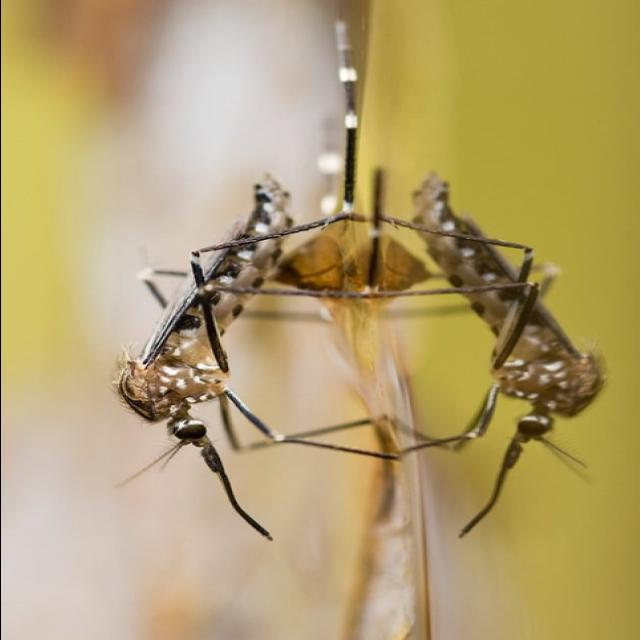Mosquito: (68, 151, 460, 542)
